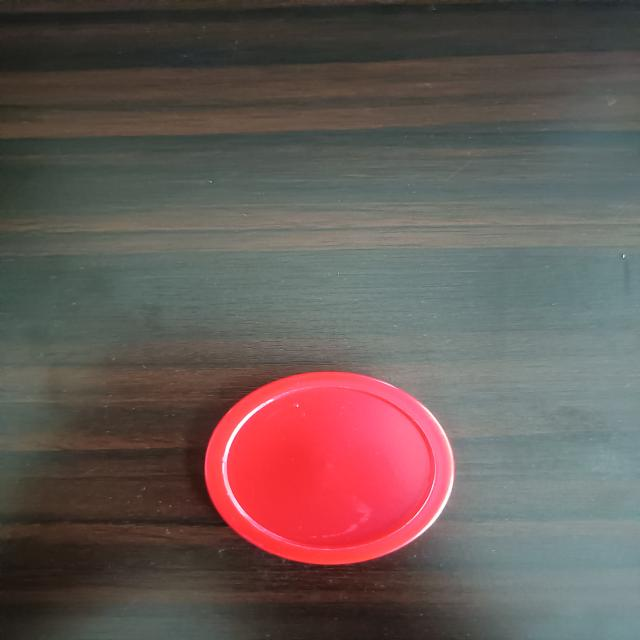chip: (200, 369, 456, 567)
